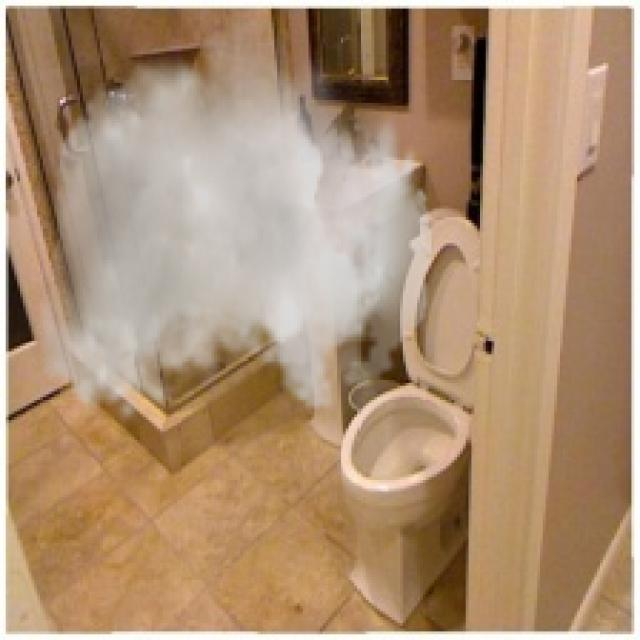smoke: (37, 3, 434, 423)
